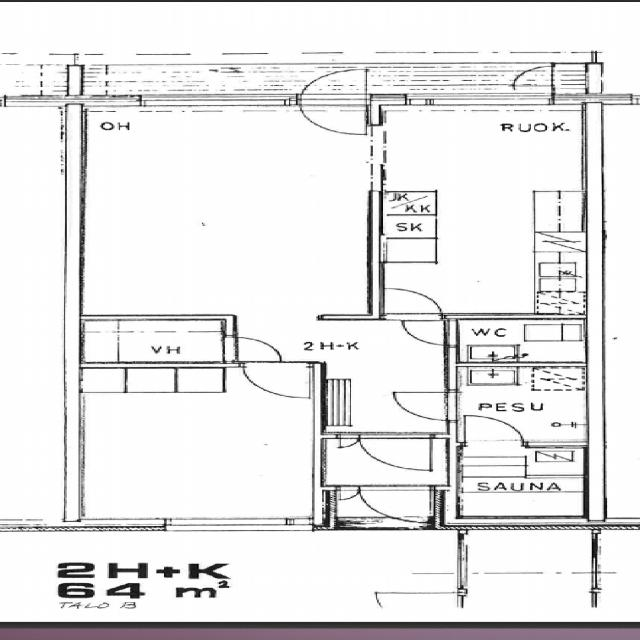door: (359, 433, 431, 473), (358, 485, 429, 524), (302, 64, 364, 105), (302, 94, 364, 134), (391, 592, 466, 623), (245, 362, 308, 397), (387, 392, 457, 420), (466, 414, 524, 446), (384, 286, 440, 318), (394, 321, 457, 345), (223, 337, 284, 361), (512, 67, 556, 85), (336, 433, 359, 449), (340, 485, 358, 499)
